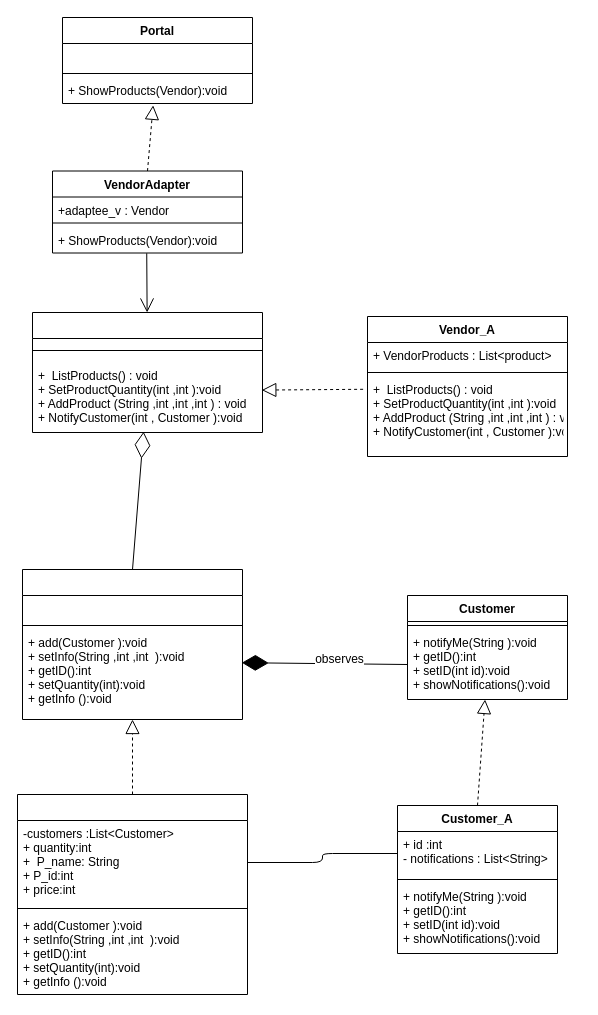
Image size: 598x1015. Some labels were removed from this diagram. The box of each missing label's shape, as (x1, y1, x2, y2) in pixels:
product: (22, 568, 242, 720)
Product_A: (16, 794, 248, 994)
Vendor: (32, 312, 262, 432)
